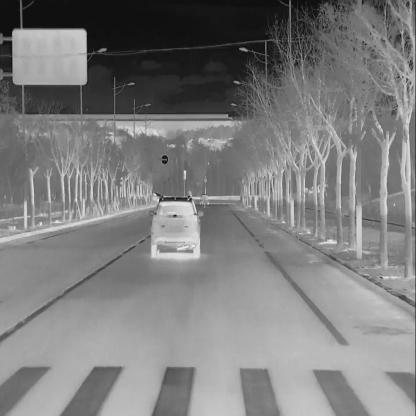car: (147, 194, 203, 260), (148, 190, 164, 204), (198, 192, 210, 207), (160, 154, 169, 165)
